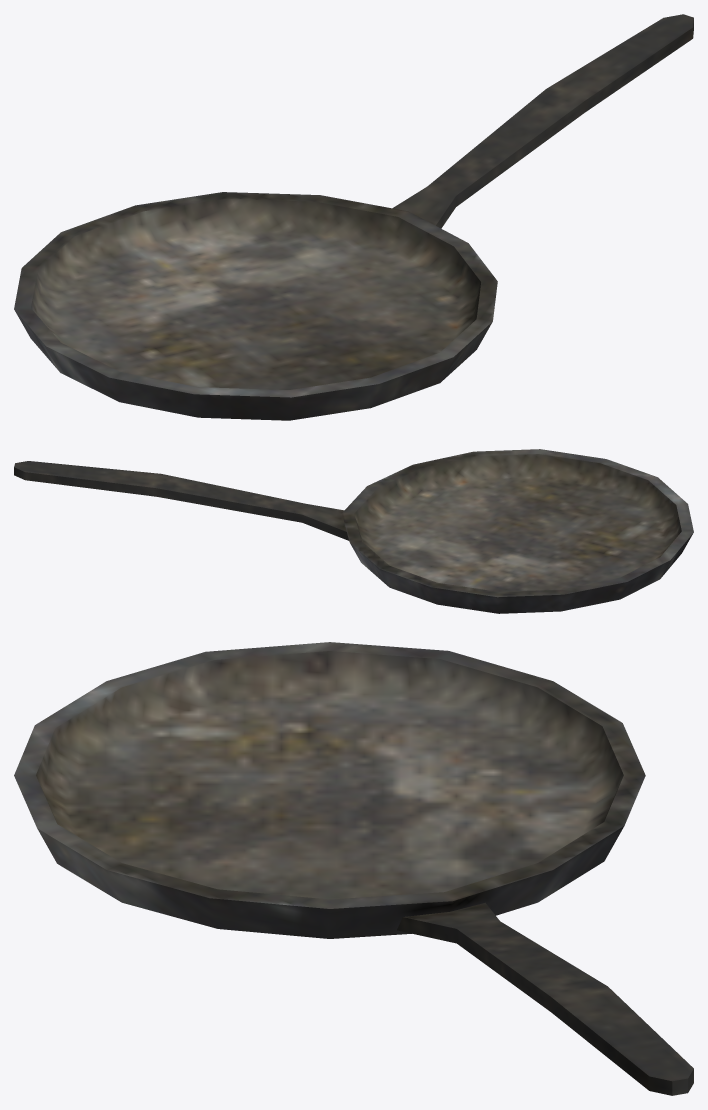
File: Pan_Open.FBX
3 renders of one model, top to bottom at view 1: azimuth 30°, elevation 25°; view 2: azimuth 150°, elevation 25°; view 3: azimuth 270°, elevation 25°, orthographic. The views are drawn at different scales.
Parts seen in each view (by area): view 1: Pan_Open; view 2: Pan_Open; view 3: Pan_Open.
Boxes of the visible parts, x1,y1,x2,y2 form: Pan_Open: (14, 14, 693, 420); Pan_Open: (14, 449, 693, 613); Pan_Open: (14, 642, 693, 1095).
Bounding box in the file's own units: 54.44 × 4.9 × 31.74.
